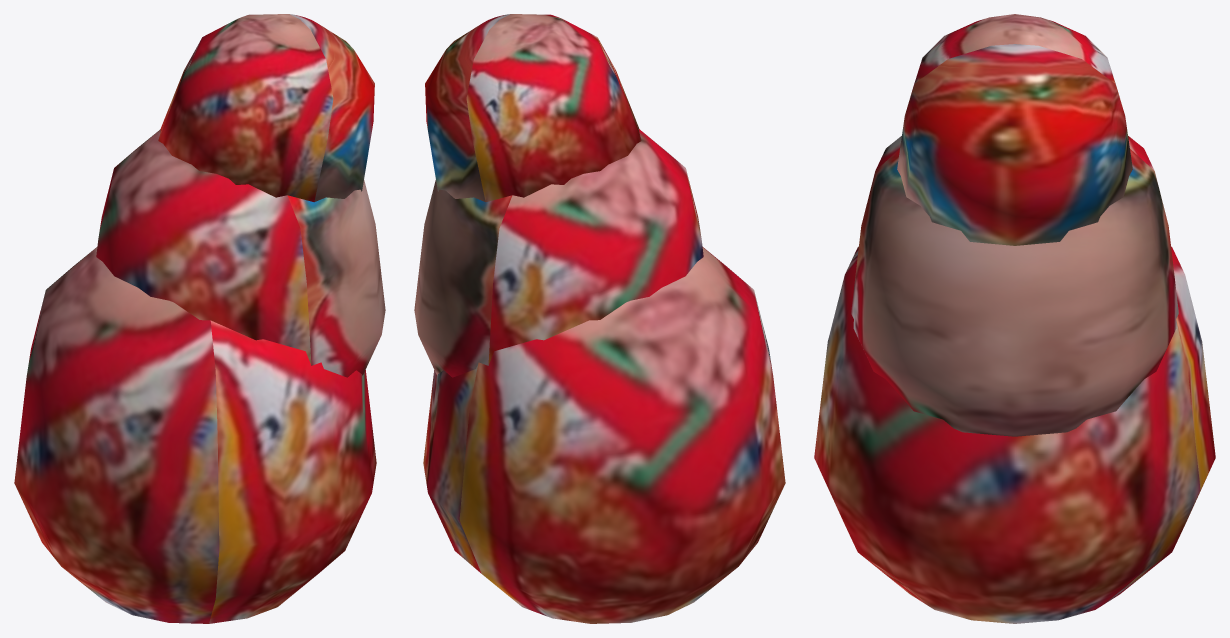
The model's file is ChineseBaby.fbx.
3 views of the same model, side by side, from view 1: azimuth 30°, elevation 25°; view 2: azimuth 150°, elevation 25°; view 3: azimuth 270°, elevation 25° (orthographic). The views are drawn at different scales.
Visible parts, largest first — view 1: Sphere; view 2: Sphere; view 3: Sphere.
Boxes of the visible parts, left/top/right/bottom form: Sphere: left=14, top=14, right=385, bottom=623; Sphere: left=414, top=14, right=785, bottom=623; Sphere: left=814, top=14, right=1215, bottom=623.
Size of the model in its own units: 204 by 335 by 196.
